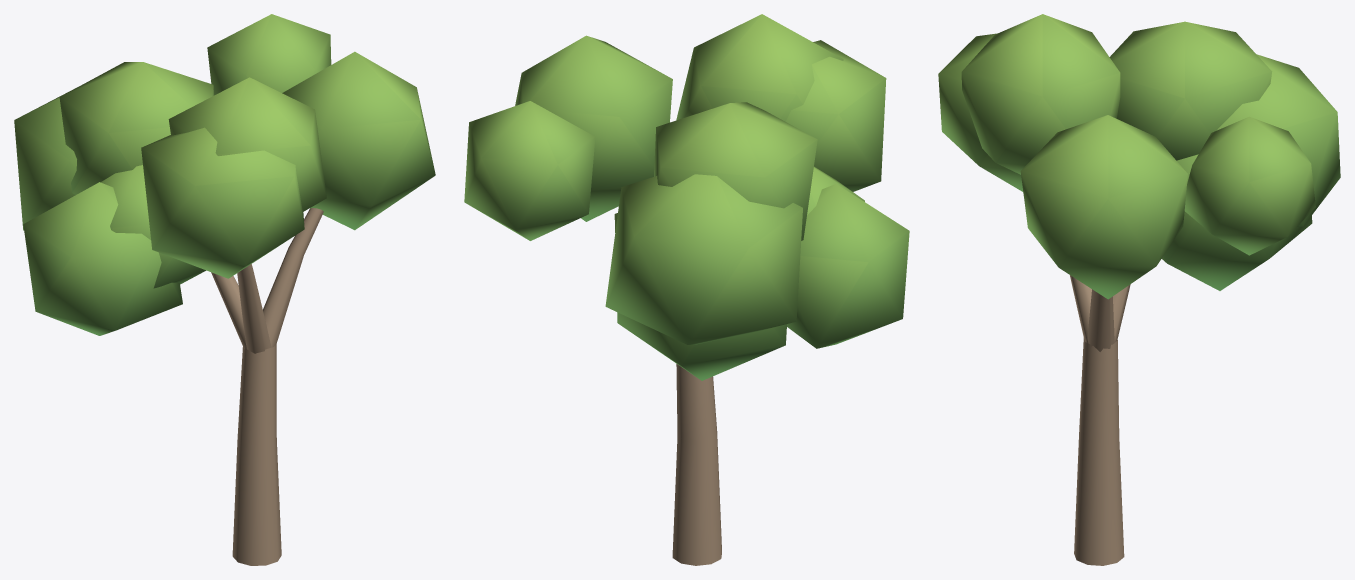
The model's file is tree_far.glb.
3 renders of one model, left to right at view 1: azimuth 30°, elevation 25°; view 2: azimuth 150°, elevation 25°; view 3: azimuth 270°, elevation 25°, orthographic. The views are drawn at different scales.
Parts seen in each view (by area): view 1: TreeFar; view 2: TreeFar; view 3: TreeFar.
Boxes of the visible parts, <box> form: TreeFar: <box>14,14,435,565</box>; TreeFar: <box>464,14,909,565</box>; TreeFar: <box>938,14,1340,565</box>.
Bounding box in the file's own units: 5.47 × 7.1 × 4.94.
